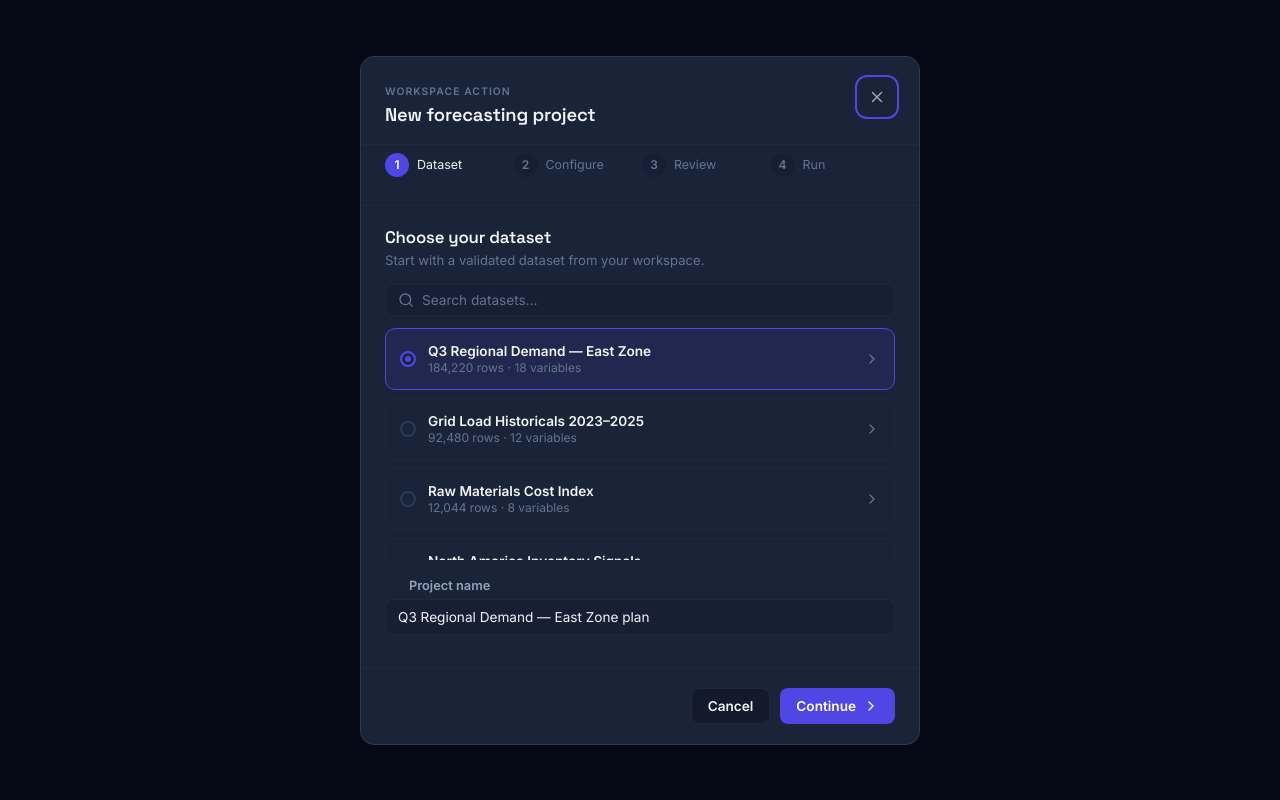
Test: NewProjectWizard › can go back from a later step without losing the name
Replace the text in the field labelled "Project name" with "Backwards" at [640, 616], box [385,598,895,634]
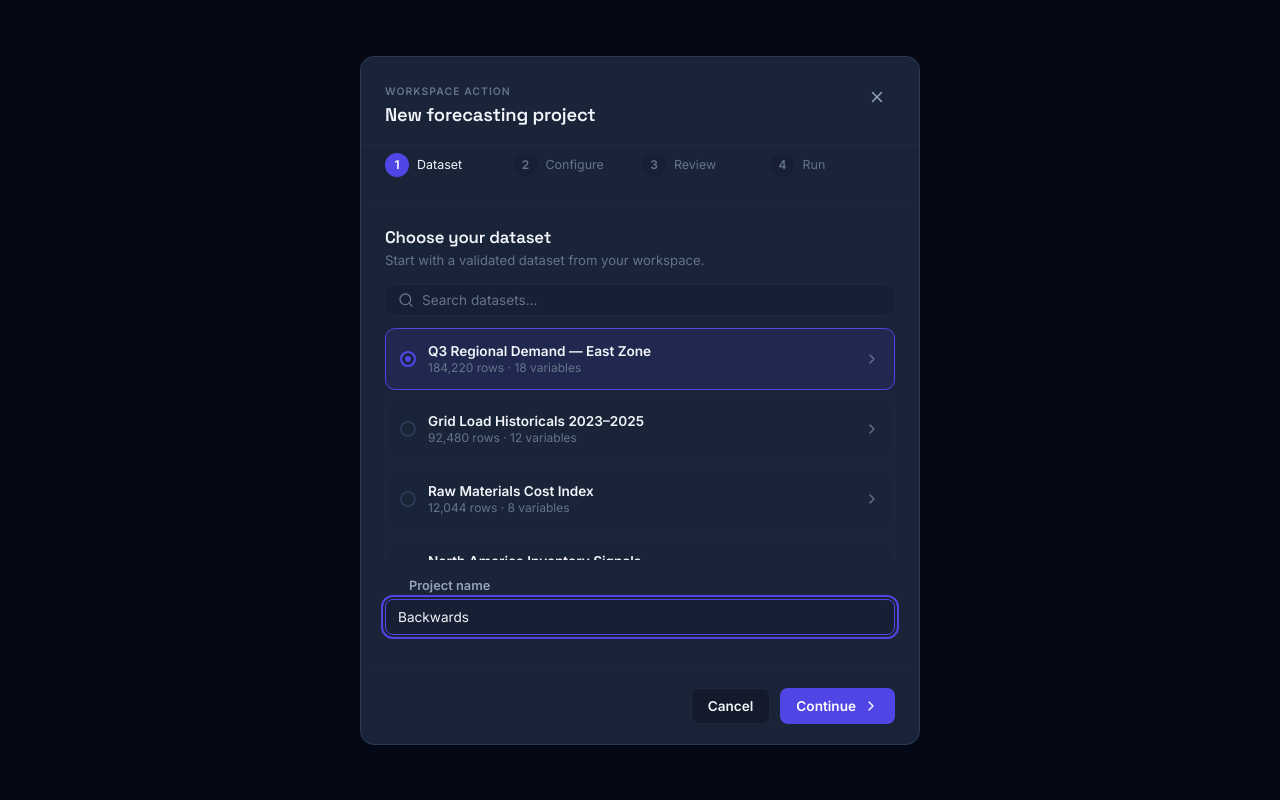
Click the button "Continue".
click(838, 706)  # box [780,688,895,724]
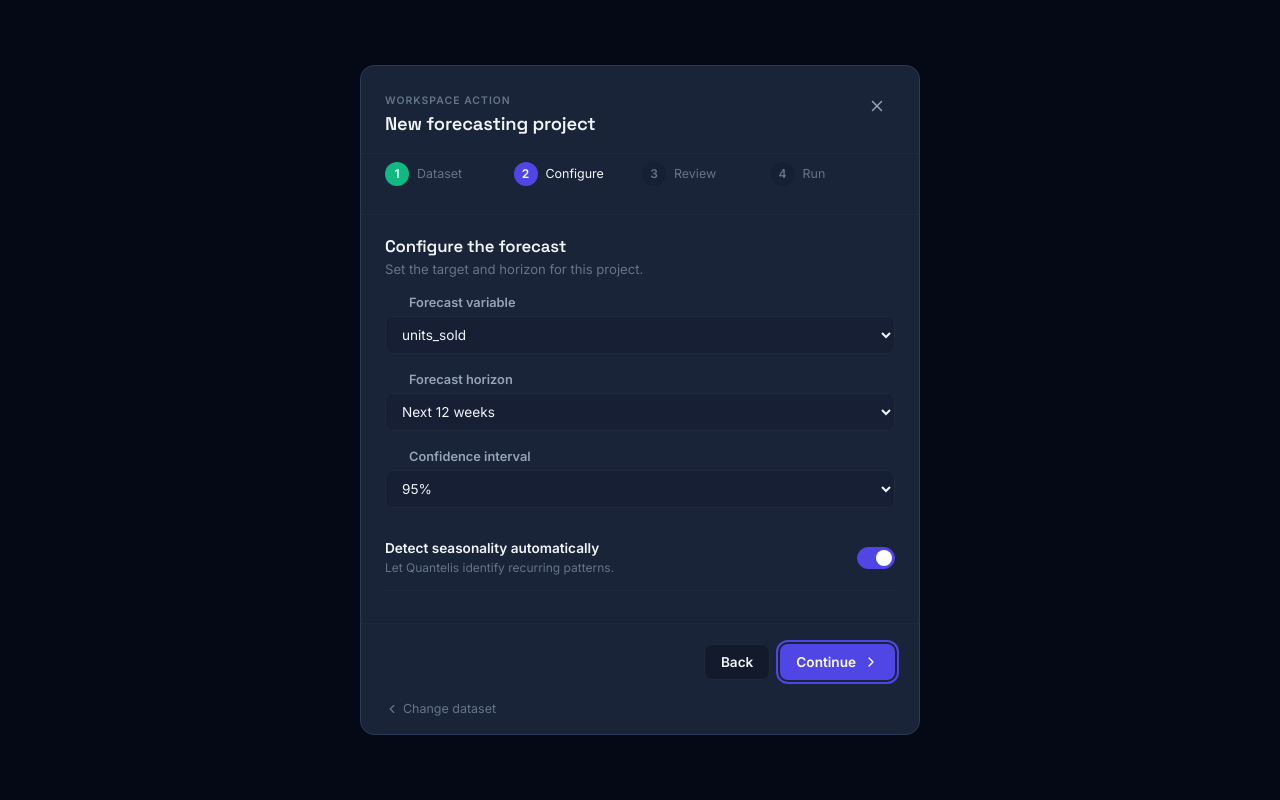
Expected: the heading "Configure the forecast" is shown, [385,235,566,257]
Click the button "Back".
click(737, 662)  # box [704,644,770,680]
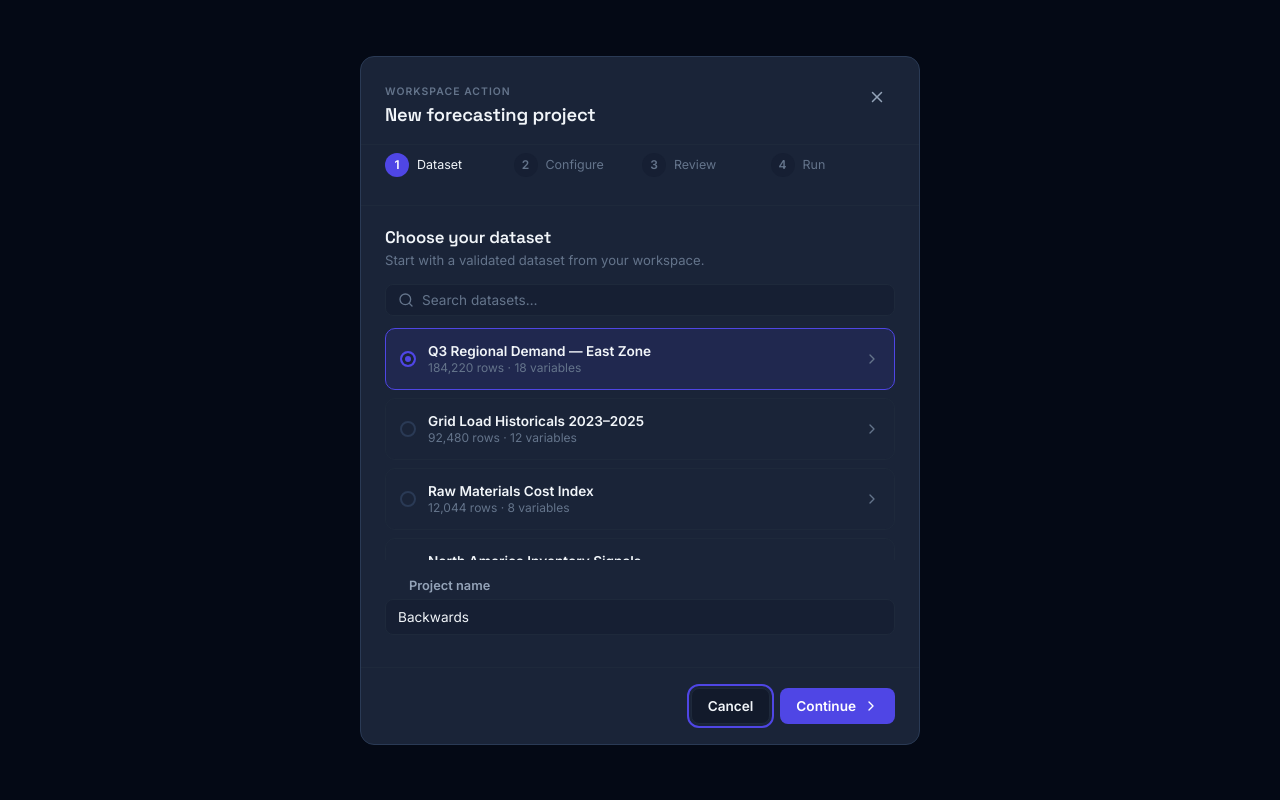
Expected: the field labelled "Project name" holds "Backwards", [385,598,895,634]
